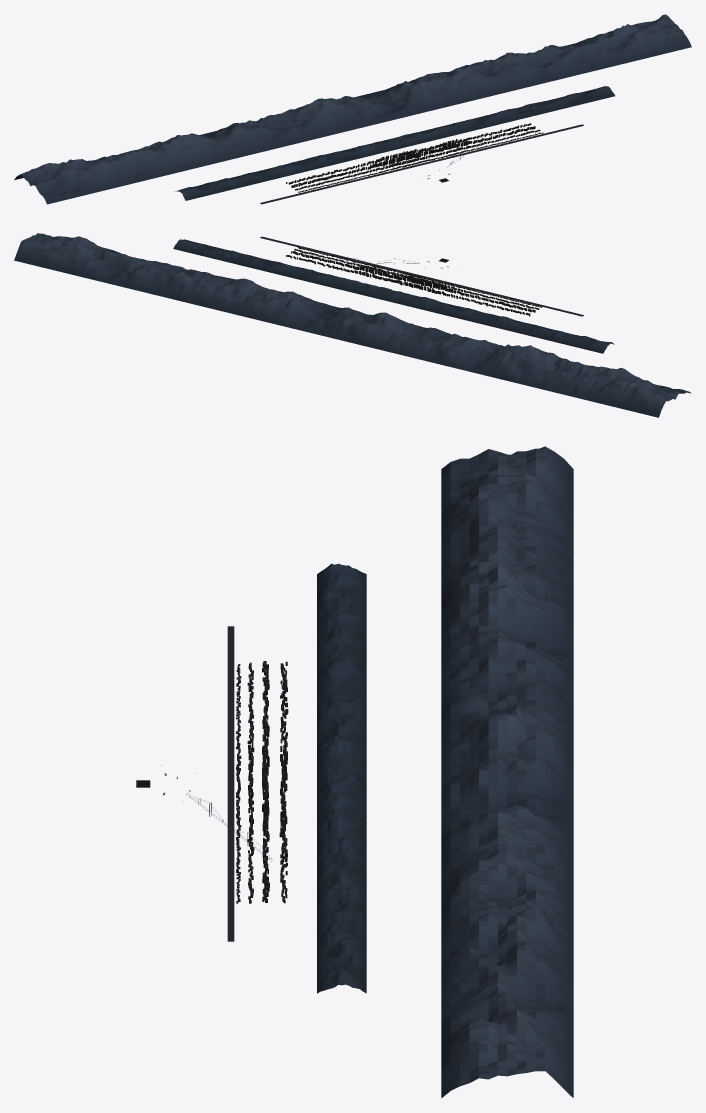
File: sky-stage.glb
3 views of the same model, one above another, from view 1: azimuth 30°, elevation 25°; view 2: azimuth 150°, elevation 25°; view 3: azimuth 270°, elevation 25° (orthographic). The views are drawn at different scales.
Parts seen in each view (by area): view 1: Mountains, Hills, Skyline, Shore; view 2: Mountains, Hills, Skyline, Shore; view 3: Mountains, Hills, Skyline, Shore.
Boxes of the visible parts, box(x1,y1,x2,y2) form: Mountains: box(14, 14, 691, 204); Hills: box(175, 86, 615, 200); Skyline: box(286, 123, 543, 192); Shore: box(260, 124, 583, 204); Mountains: box(14, 233, 691, 417); Hills: box(173, 239, 614, 353); Skyline: box(286, 247, 541, 316); Shore: box(260, 236, 583, 316); Mountains: box(441, 446, 573, 1098); Hills: box(317, 563, 366, 993); Skyline: box(236, 661, 288, 903); Shore: box(227, 626, 234, 941).
Size of the model in its own units: 18000 by 678 by 5334.
Materials: 34 (2 with a texture image).
